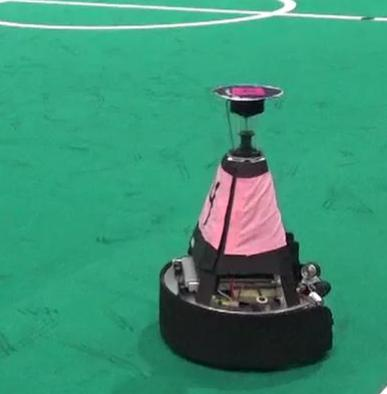robot: (155, 79, 340, 373)
